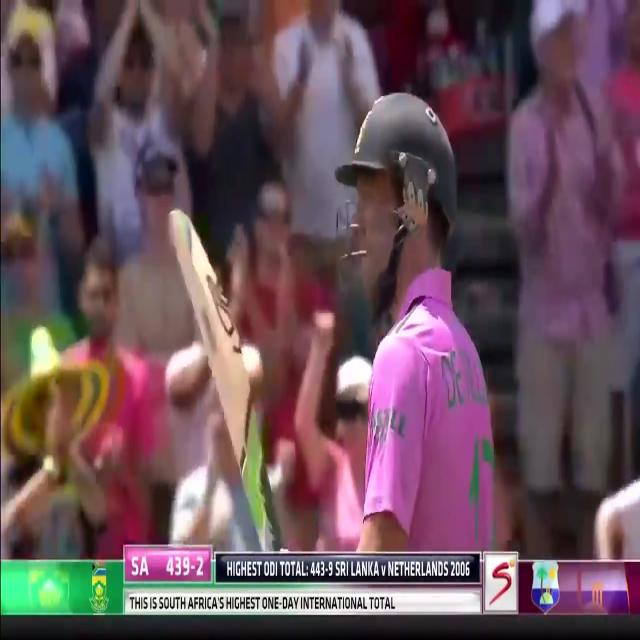Ball: (341, 92, 515, 550)
